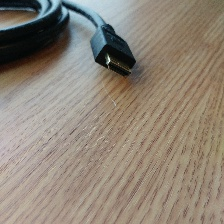hdmi_male: (79, 21, 138, 76)
